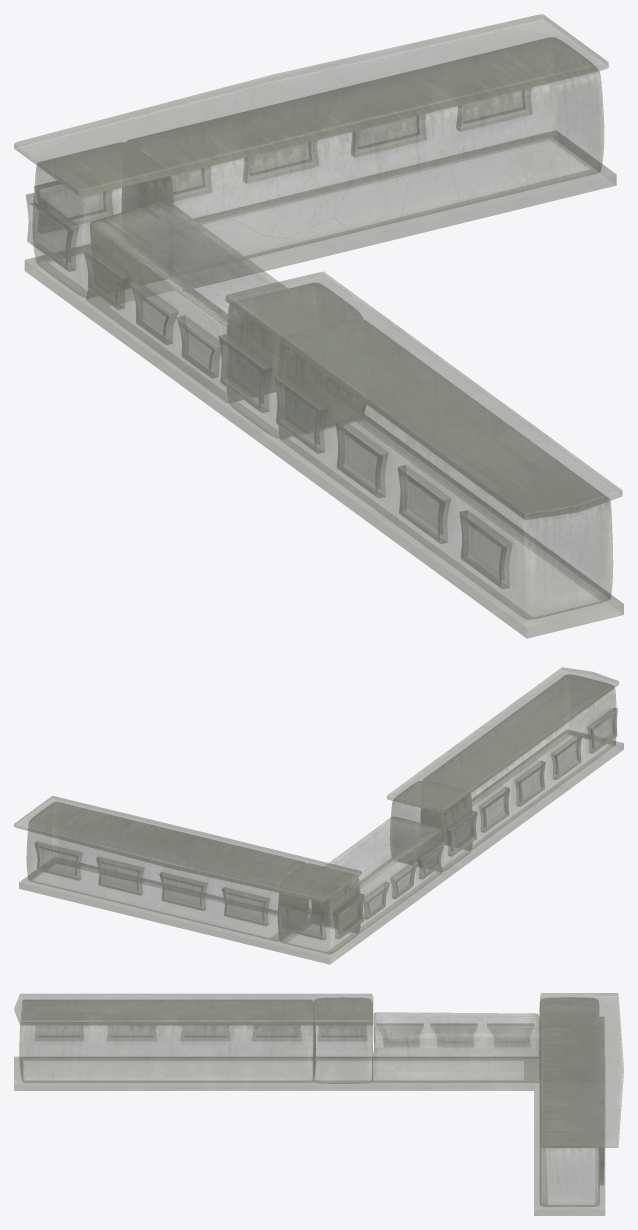
File: Barras_V1_Armada.glb
3 views of the same model, one above another, from view 1: azimuth 30°, elevation 25°; view 2: azimuth 150°, elevation 25°; view 3: azimuth 270°, elevation 25° (orthographic). The views are drawn at different scales.
Parts seen in each view (by area): view 1: Caja.008, Borde.001, Caja.007, Encimera.003, Encimera.004, Caja_2.001, Caja.005, Caja.006, Decoracion_Caja_2.011, Decoracion_Caja_2.014, Decoracion_Caja_2.012, Decoracion_Caja_2.010 (+5 smaller); view 2: Caja.008, Borde.001, Caja.007, Encimera.003, Encimera.004, Caja_2.001, Caja.005, Caja.006, Decoracion_Caja_2.019, Decoracion_Caja_2.017, Decoracion_Caja_2.018, Decoracion_Caja_2.020 (+10 smaller); view 3: Caja.007, Borde.001, Encimera.003, Caja_2.001, Encimera.004, Caja.008, Caja.006, Caja.005.
Boxes of the visible parts, box(x1,y1,x2,y2) form: Caja.008: box(122, 37, 603, 258); Borde.001: box(25, 130, 623, 638); Caja.007: box(278, 319, 612, 619); Encimera.003: box(14, 14, 608, 196); Encimera.004: box(225, 272, 622, 519); Caja_2.001: box(86, 200, 287, 402); Caja.005: box(32, 142, 173, 297); Caja.006: box(225, 283, 365, 438); Decoracion_Caja_2.011: box(219, 334, 271, 412); Decoracion_Caja_2.014: box(398, 465, 450, 543); Decoracion_Caja_2.012: box(274, 375, 327, 453); Decoracion_Caja_2.010: box(26, 193, 78, 271); Caja.008: box(26, 802, 308, 941); Borde.001: box(19, 729, 623, 964); Caja.007: box(421, 674, 616, 849); Encimera.003: box(14, 796, 361, 902); Encimera.004: box(387, 667, 618, 812); Caja_2.001: box(311, 816, 442, 933); Caja.005: box(278, 863, 360, 953); Caja.006: box(390, 781, 472, 871); Decoracion_Caja_2.019: box(96, 857, 144, 895); Decoracion_Caja_2.017: box(222, 887, 269, 925); Decoracion_Caja_2.018: box(159, 872, 207, 910); Decoracion_Caja_2.020: box(280, 901, 327, 939); Caja.007: box(19, 1000, 315, 1082); Borde.001: box(14, 1057, 604, 1215); Encimera.003: box(540, 993, 623, 1147); Caja_2.001: box(372, 1012, 539, 1082); Encimera.004: box(14, 994, 372, 1024); Caja.008: box(540, 1023, 599, 1206); Caja.006: box(313, 997, 372, 1083); Caja.005: box(539, 997, 598, 1078).
Size of the model in its own units: 4.32 by 0.9268 by 7.2.
3 materials, 3 textured.
